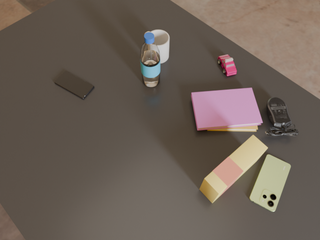book: (191, 88, 262, 130)
bottle: (140, 32, 161, 87)
box: (200, 135, 268, 203)
cup: (146, 30, 169, 63)
mouse: (265, 97, 299, 136)
phone: (250, 155, 291, 212), (55, 71, 94, 99)
toy_car: (218, 55, 237, 76)
